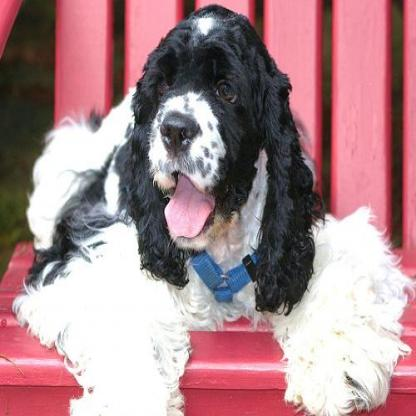cocker_spaniel: (12, 3, 414, 413)
